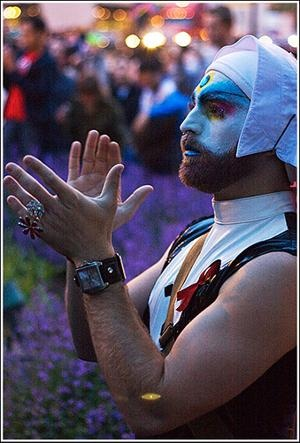person without safety: (146, 34, 298, 350)
